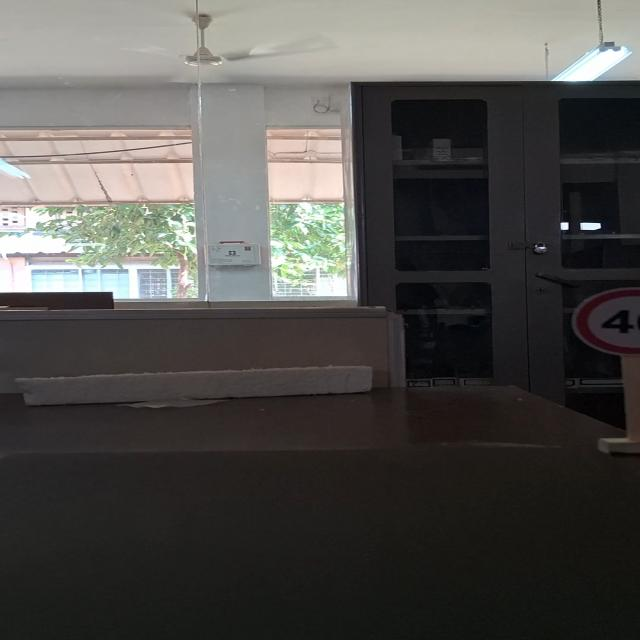Speed40: (563, 284, 640, 358)
